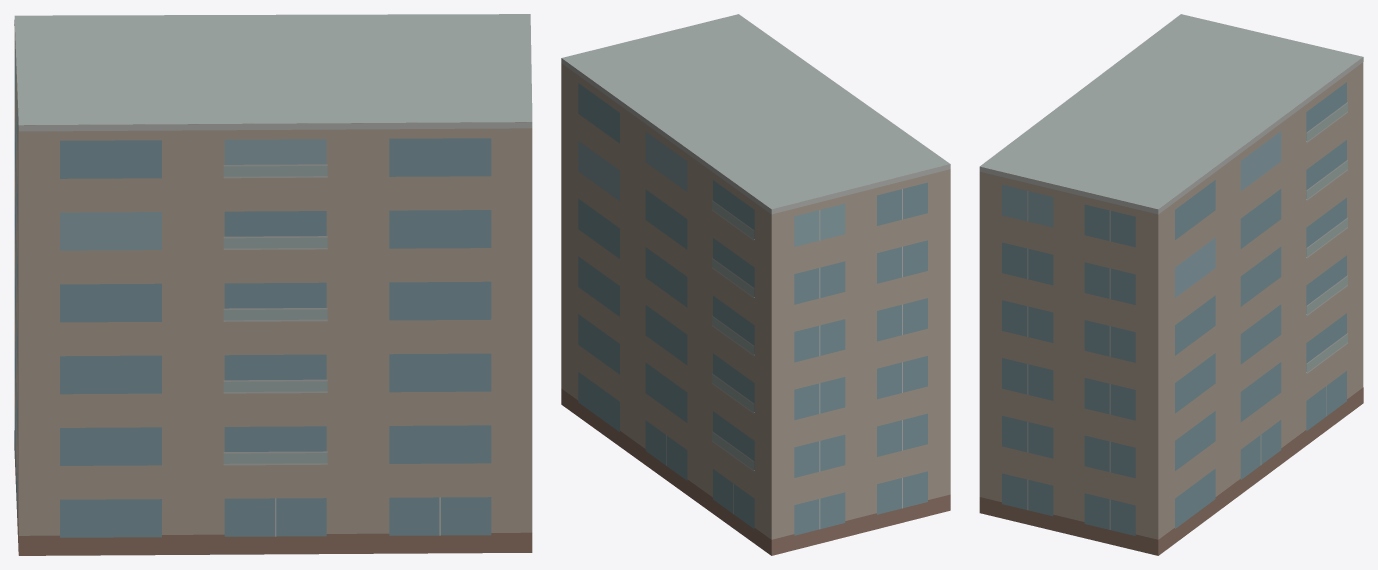
File: survey-upis-32915807.glb
The picture shows the model from 3 angles, left to right: view 1: azimuth 30°, elevation 25°; view 2: azimuth 150°, elevation 25°; view 3: azimuth 270°, elevation 25°; orthographic projection. The views are drawn at different scales.
Parts seen in each view (by area): view 1: survey-upis-32915807.tmp; view 2: survey-upis-32915807.tmp; view 3: survey-upis-32915807.tmp.
Part boxes in pixels (box(x1,y1,x2,y2)): survey-upis-32915807.tmp: box(14, 14, 532, 555); survey-upis-32915807.tmp: box(561, 14, 950, 555); survey-upis-32915807.tmp: box(979, 14, 1363, 555).
Bounding box in the file's own units: 20.08 × 16.6 × 16.68.
